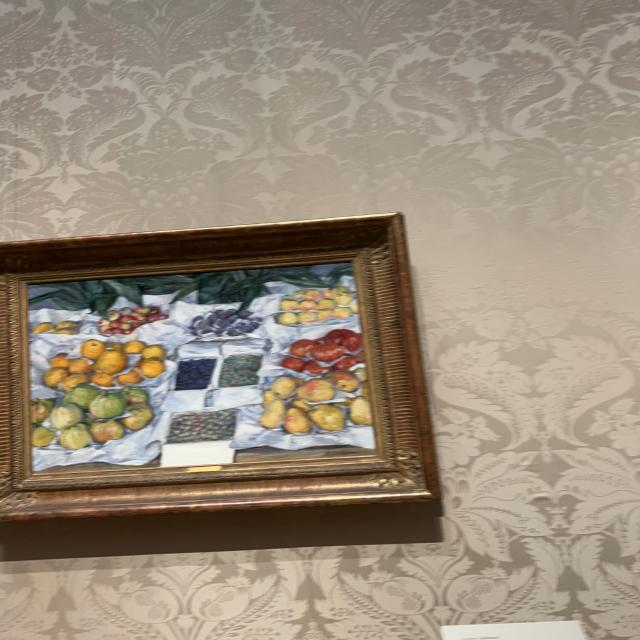fruits: (32, 265, 372, 465)
